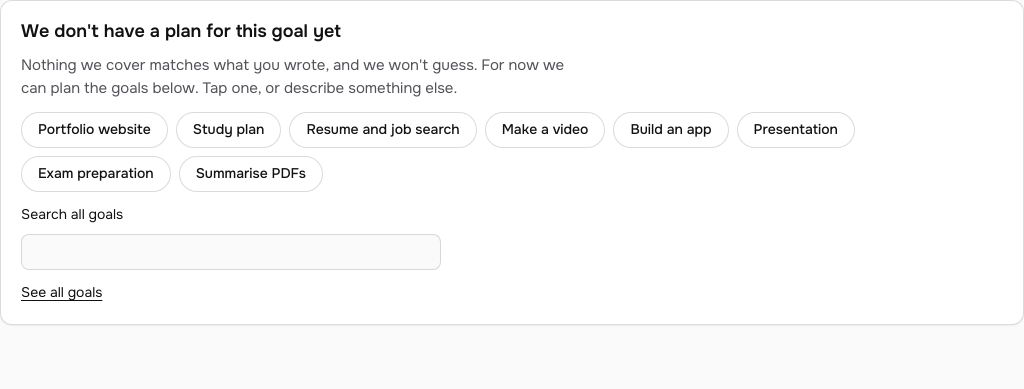
Test: NoMatchCard › filters every goal with the search box
This screenshot has width=1024, height=389.
Type "podcast" into the search field labelled "Search all goals" at coordinates (231, 252), box [21,234,441,270]
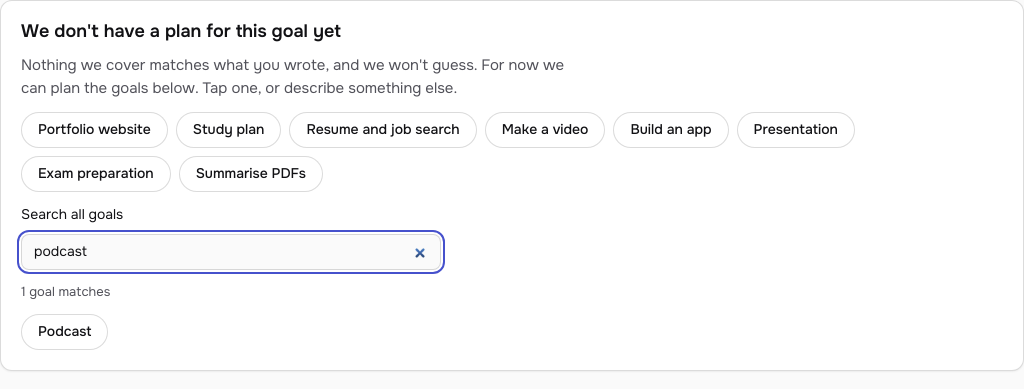
Now the button "Podcast" is shown, box [21,314,108,350]
Now the text "1 goal matches" is shown, box [21,283,110,300]
